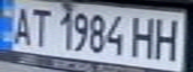1: (51, 7, 75, 51)
4: (103, 11, 130, 56)
8: (87, 10, 109, 54)
9: (69, 8, 90, 52)
A: (6, 3, 36, 46)
H: (151, 14, 187, 62), (127, 12, 160, 60)
T: (27, 3, 54, 47)
